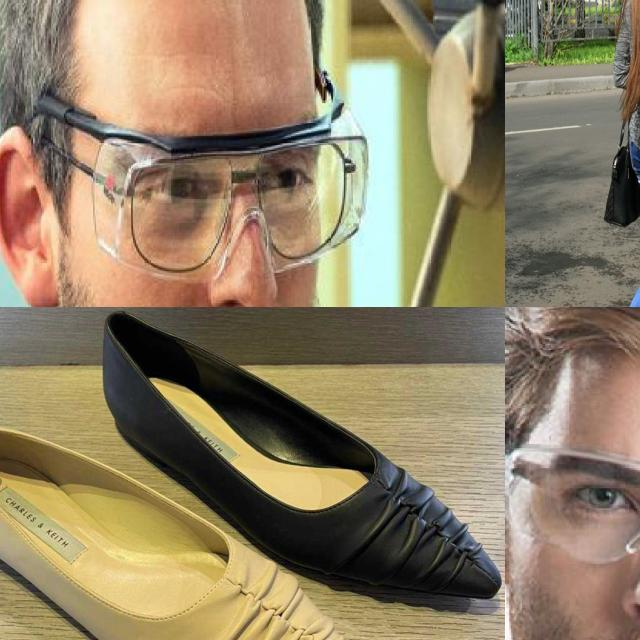No_Ear-Protection: (0, 125, 68, 307), (505, 458, 517, 586)
Sandals: (78, 307, 505, 612), (0, 383, 378, 640)
face_nomask: (120, 145, 317, 307), (547, 461, 640, 640)
glasses: (23, 93, 372, 274), (505, 436, 640, 582)
head_nohelmet: (505, 307, 640, 390), (7, 0, 304, 25)
